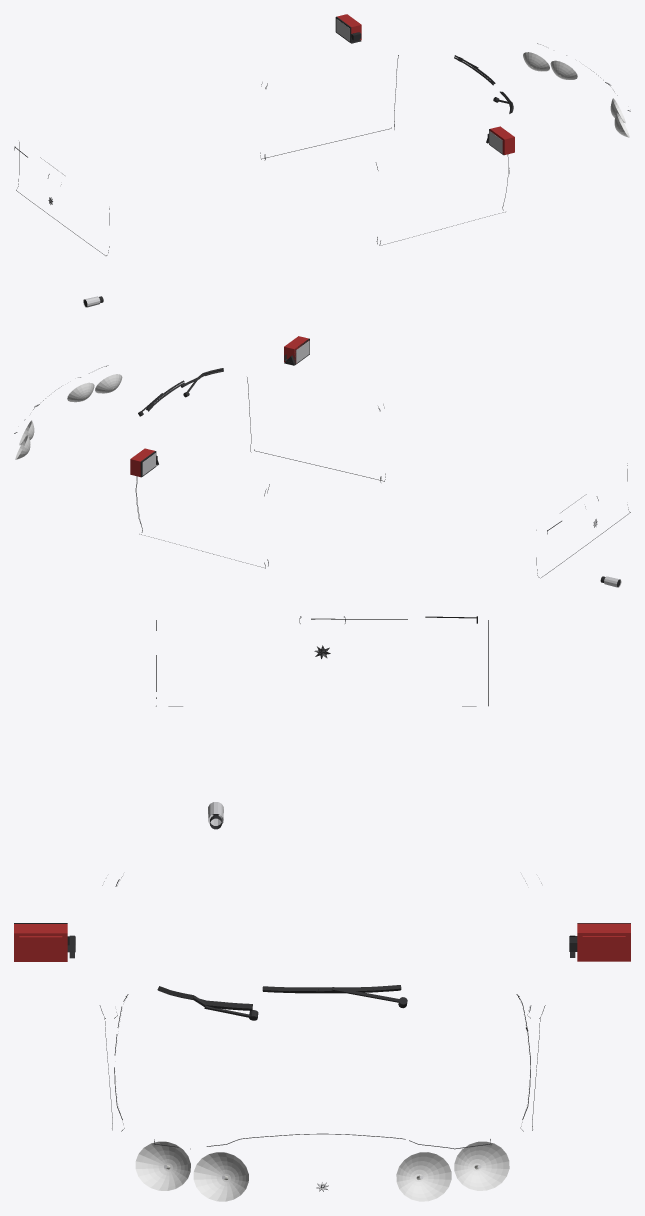
The model's file is tropeiro_detalhe.glb.
The picture shows the model from 3 angles, top to bottom: view 1: azimuth 30°, elevation 25°; view 2: azimuth 150°, elevation 25°; view 3: azimuth 270°, elevation 25°; orthographic projection. The views are drawn at different scales.
Visible parts, largest first — view 1: det_headlight_left, det_mirror_right, det_mirror_left, det_body; view 2: det_headlight_right, det_body, det_mirror_left, det_mirror_right, det_headlight_left; view 3: det_headlight_right, det_headlight_left, det_body, det_mirror_right, det_mirror_left.
Part boxes in pixels (<box>): det_headlight_left: <box>523,52,577,79</box>; det_mirror_right: <box>486,126,514,155</box>; det_mirror_left: <box>335,14,361,43</box>; det_body: <box>83,55,611,307</box>; det_headlight_right: <box>67,374,122,402</box>; det_body: <box>34,368,621,587</box>; det_mirror_left: <box>130,448,158,477</box>; det_mirror_right: <box>284,336,309,365</box>; det_headlight_left: <box>15,420,34,459</box>; det_headlight_right: <box>135,1141,248,1201</box>; det_headlight_left: <box>396,1141,509,1201</box>; det_body: <box>157,802,407,1191</box>; det_mirror_right: <box>14,923,75,961</box>; det_mirror_left: <box>569,923,630,961</box>.
Bounding box in the file's own units: 4.33 × 0.8807 × 2.25.
